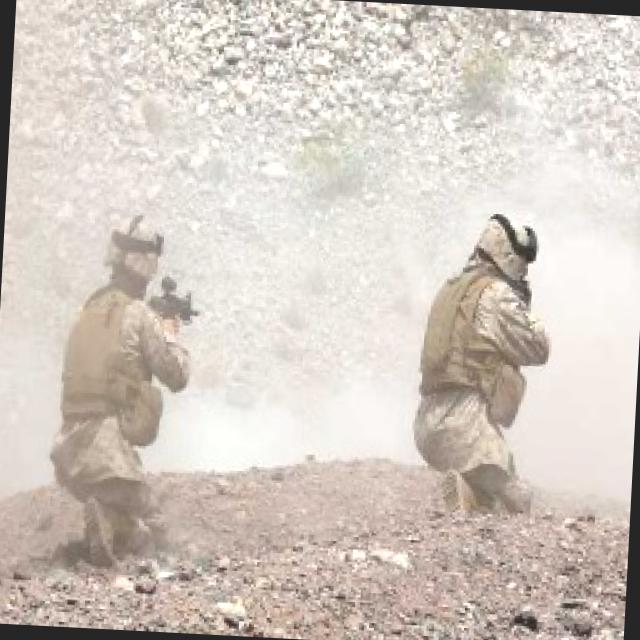long weapon: (145, 275, 212, 336)
